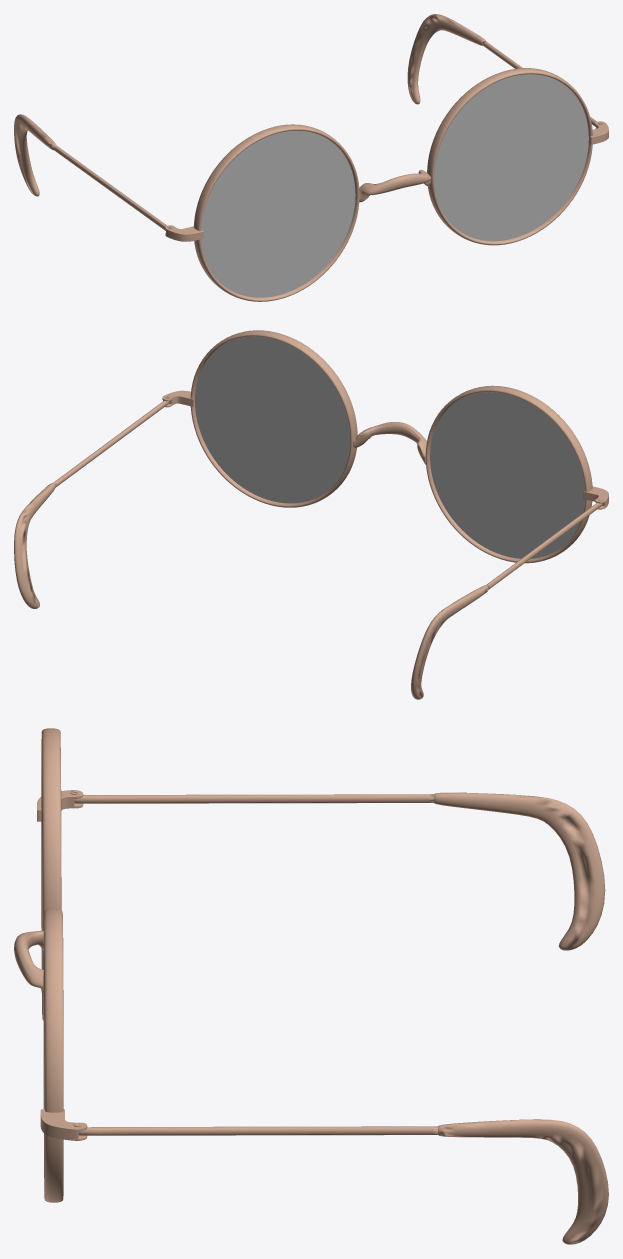
File: Glasses(1).gltf
3 views of the same model, one above another, from view 1: azimuth 30°, elevation 25°; view 2: azimuth 150°, elevation 25°; view 3: azimuth 270°, elevation 25° (orthographic). The views are drawn at different scales.
Parts seen in each view (by area): view 1: polySurface3, polySurface2, polySurface4, polySurface1, pCube4, pCube2, pCube3, pCube1; view 2: polySurface3, polySurface2, polySurface4, polySurface1, pCube2, pCube4, pCube3; view 3: pCube4, pCube2, polySurface4, polySurface1, pCube3, pCube5.
Boxes of the visible parts, x1,y1,x2,y2 form: polySurface3: (434, 74, 588, 241); polySurface2: (201, 130, 355, 297); polySurface4: (427, 68, 592, 245); polySurface1: (193, 124, 359, 301); pCube4: (14, 114, 167, 230); pCube2: (407, 14, 596, 127); pCube3: (359, 169, 431, 202); pCube1: (165, 225, 203, 241); polySurface3: (195, 336, 350, 503); polySurface2: (430, 392, 585, 558); polySurface4: (190, 330, 357, 507); polySurface1: (425, 385, 592, 563); pCube2: (14, 401, 169, 608); pCube4: (411, 503, 602, 699); pCube3: (353, 422, 426, 464); pCube4: (74, 792, 605, 950); pCube2: (78, 1119, 608, 1244); polySurface4: (43, 908, 63, 1202); polySurface1: (41, 728, 61, 1020); pCube3: (14, 930, 43, 996); pCube5: (40, 1109, 87, 1140).
Bounding box in the file's own units: 1.97 × 0.7362 × 1.48.
